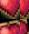heart: (0, 0, 20, 19), (0, 19, 20, 34), (20, 19, 29, 34)
